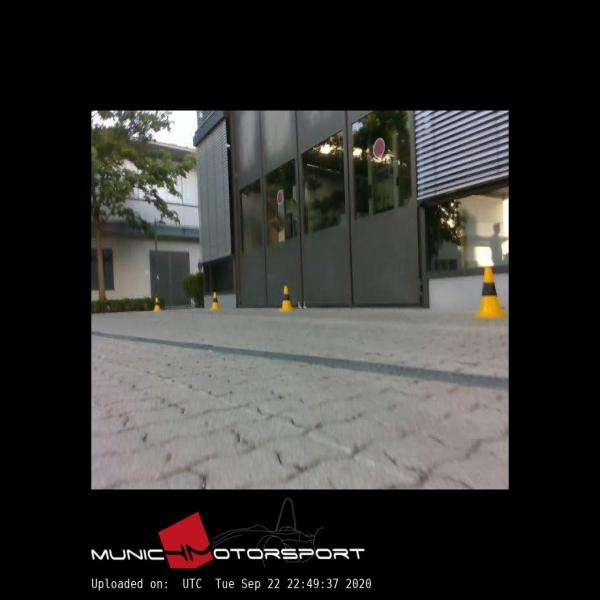yellow_cone: (475, 268, 507, 317), (280, 286, 291, 311), (210, 292, 220, 310), (153, 298, 161, 311)
